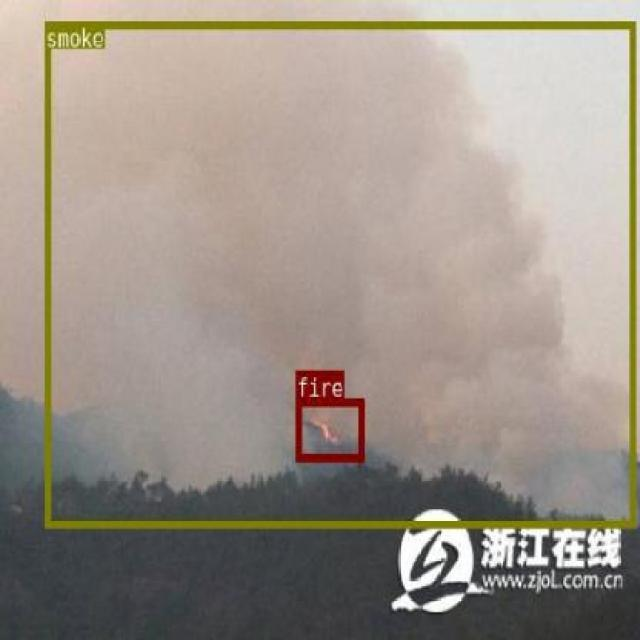fire: (295, 398, 363, 460)
smoke: (43, 20, 634, 526)
